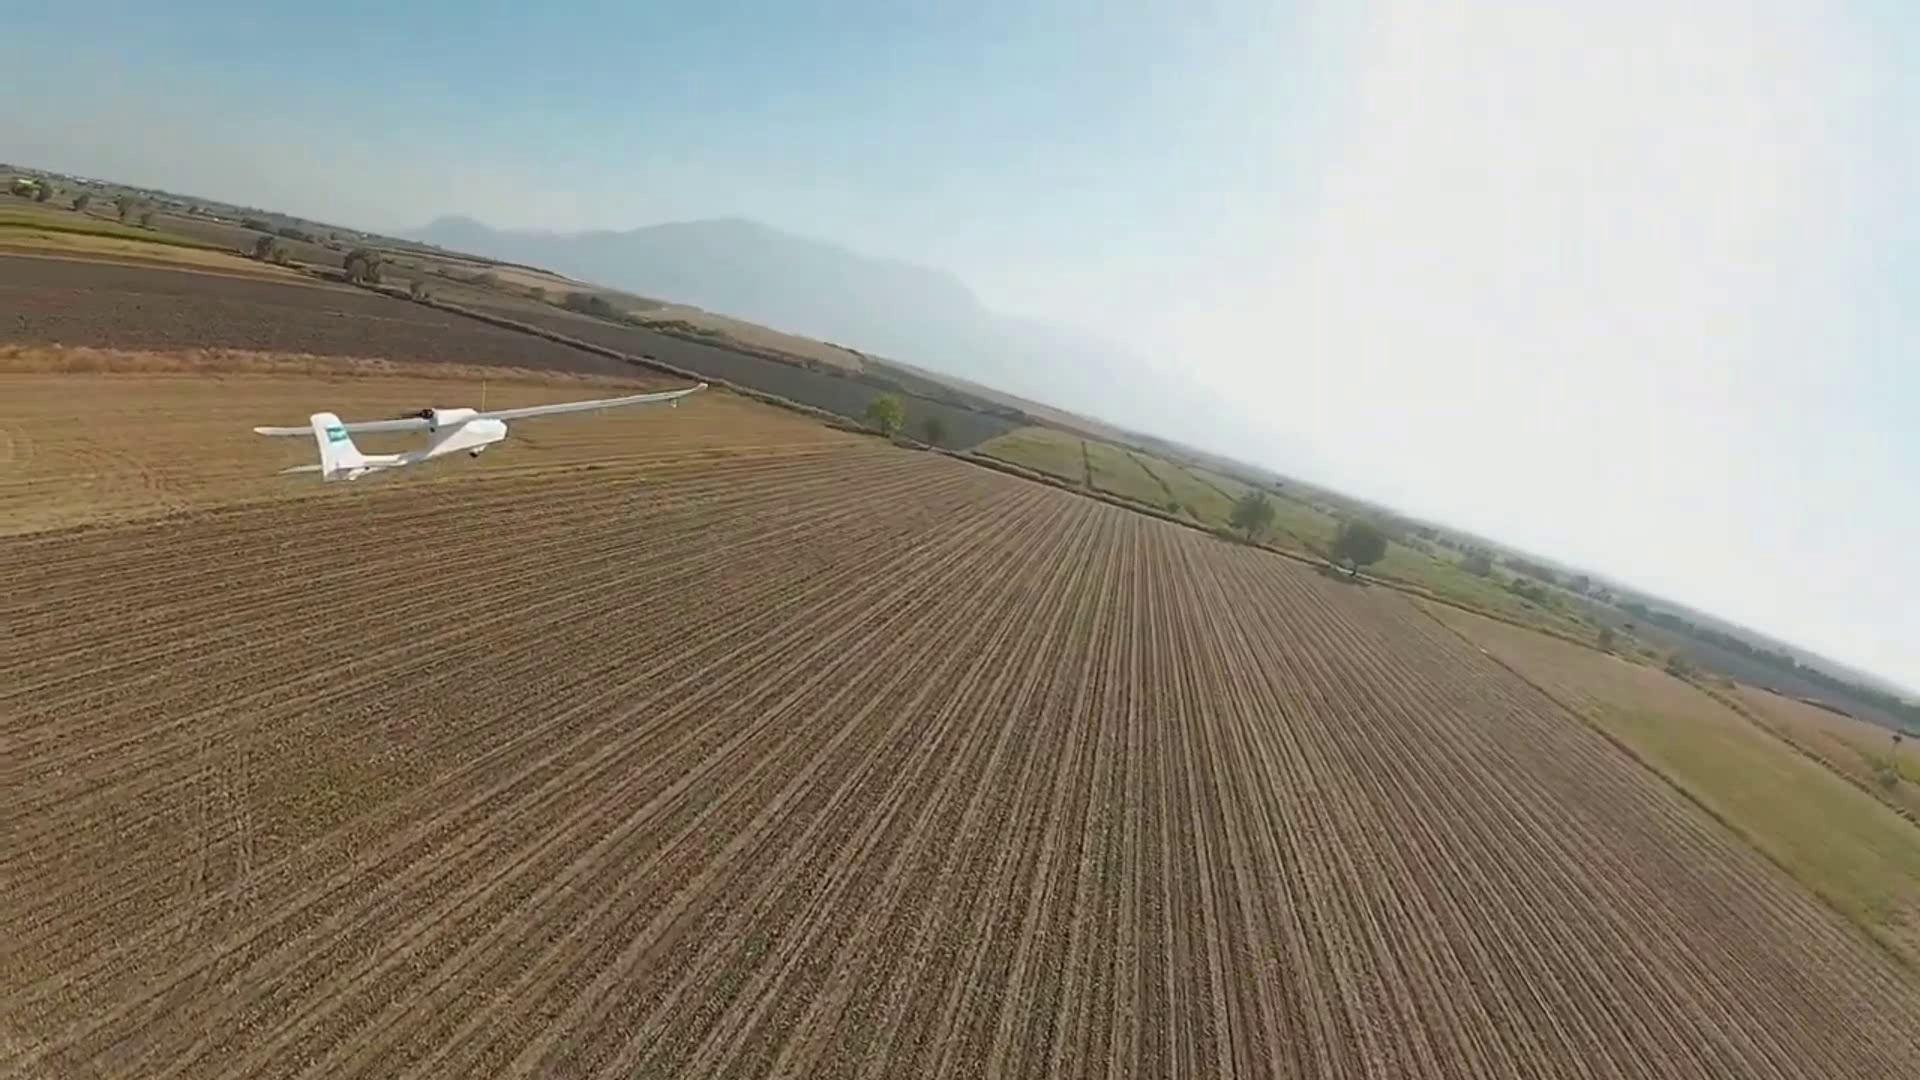airplane: (45, 237, 1913, 777), (251, 406, 506, 483)
